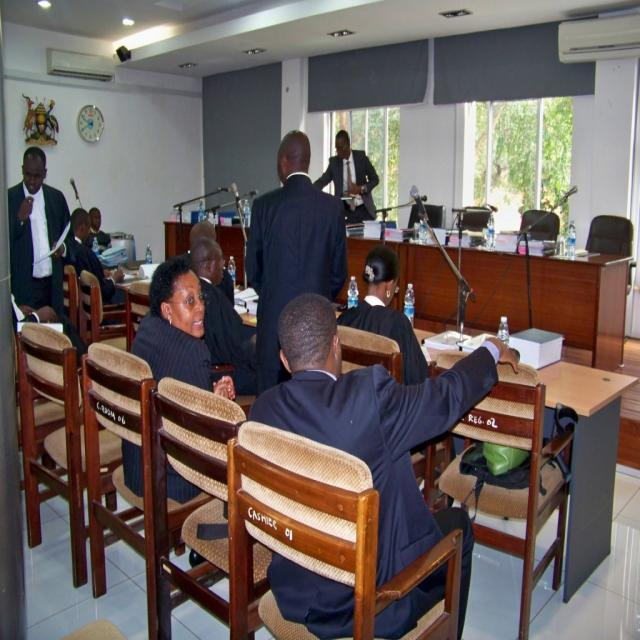chair: (227, 424, 467, 638), (436, 378, 577, 640), (83, 342, 203, 636), (150, 375, 248, 637), (16, 322, 96, 590), (74, 268, 128, 351), (336, 324, 403, 381)
desk: (163, 212, 635, 368)
person: (247, 290, 513, 628), (244, 130, 348, 394), (130, 256, 241, 402), (336, 246, 427, 380), (8, 146, 72, 322), (189, 236, 257, 394), (64, 208, 124, 314), (312, 129, 379, 223), (87, 207, 112, 254)
